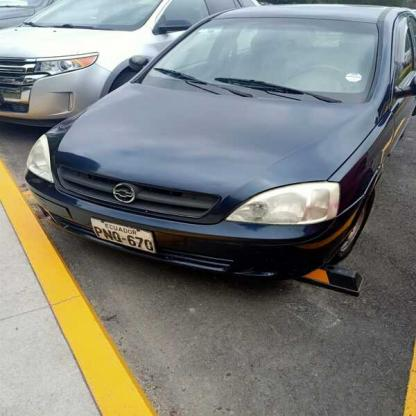Placa: (87, 213, 164, 264)
